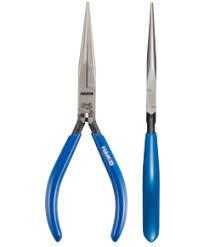pliers: (44, 0, 128, 246), (141, 0, 160, 246)
